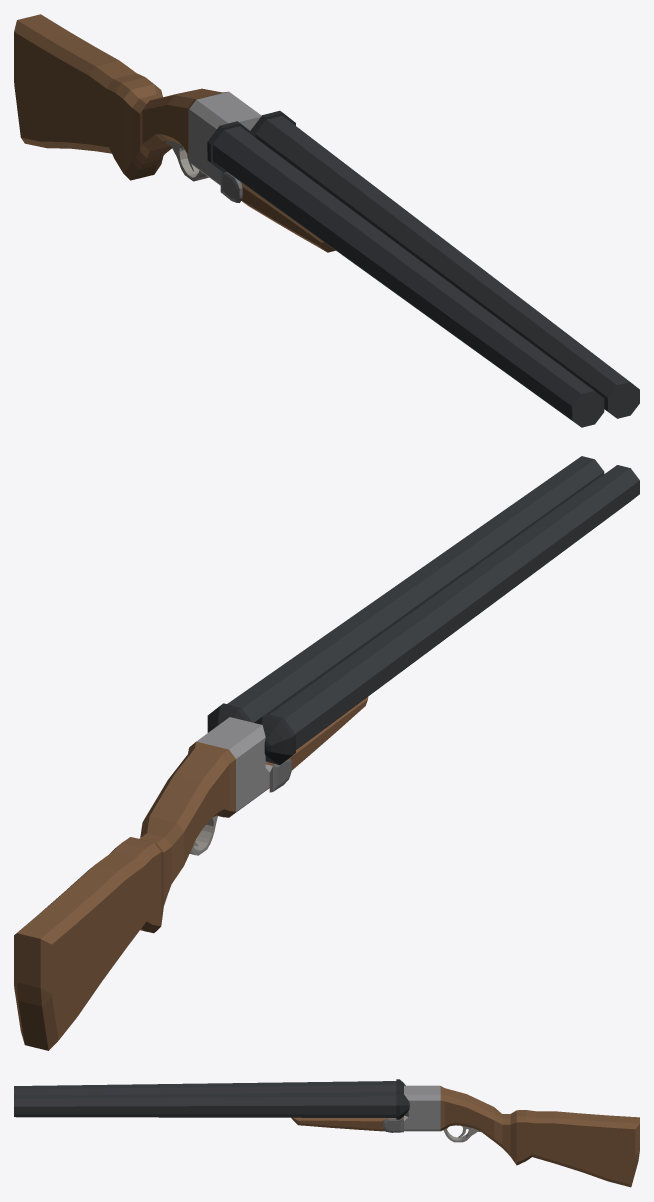
The model's file is SHOOT GUNS 2.fbx.
3 views of the same model, one above another, from view 1: azimuth 30°, elevation 25°; view 2: azimuth 150°, elevation 25°; view 3: azimuth 270°, elevation 25° (orthographic). The views are drawn at different scales.
Visible parts, largest first — view 1: Plane.010; view 2: Plane.010; view 3: Plane.010.
Boxes of the visible parts, x1,y1,x2,y2 form: Plane.010: (14,14,639,427); Plane.010: (14,456,639,1050); Plane.010: (14,1079,639,1187).
Size of the model in its own units: 97.59 by 195 by 1143.
1 material, 1 textured.
